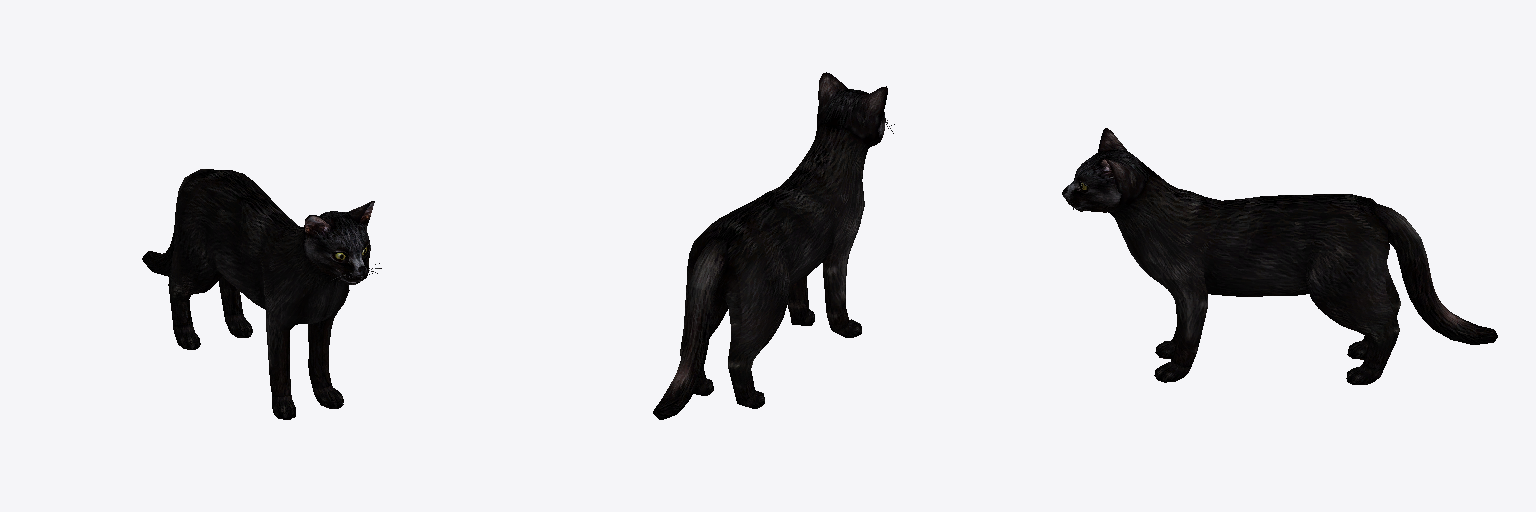
The picture shows the model from 3 angles: view 1: azimuth 30°, elevation 25°; view 2: azimuth 150°, elevation 25°; view 3: azimuth 270°, elevation 25°; orthographic projection.
Size of the model in its own units: 17.85 by 46.62 by 81.6.
2 materials, 2 textured.